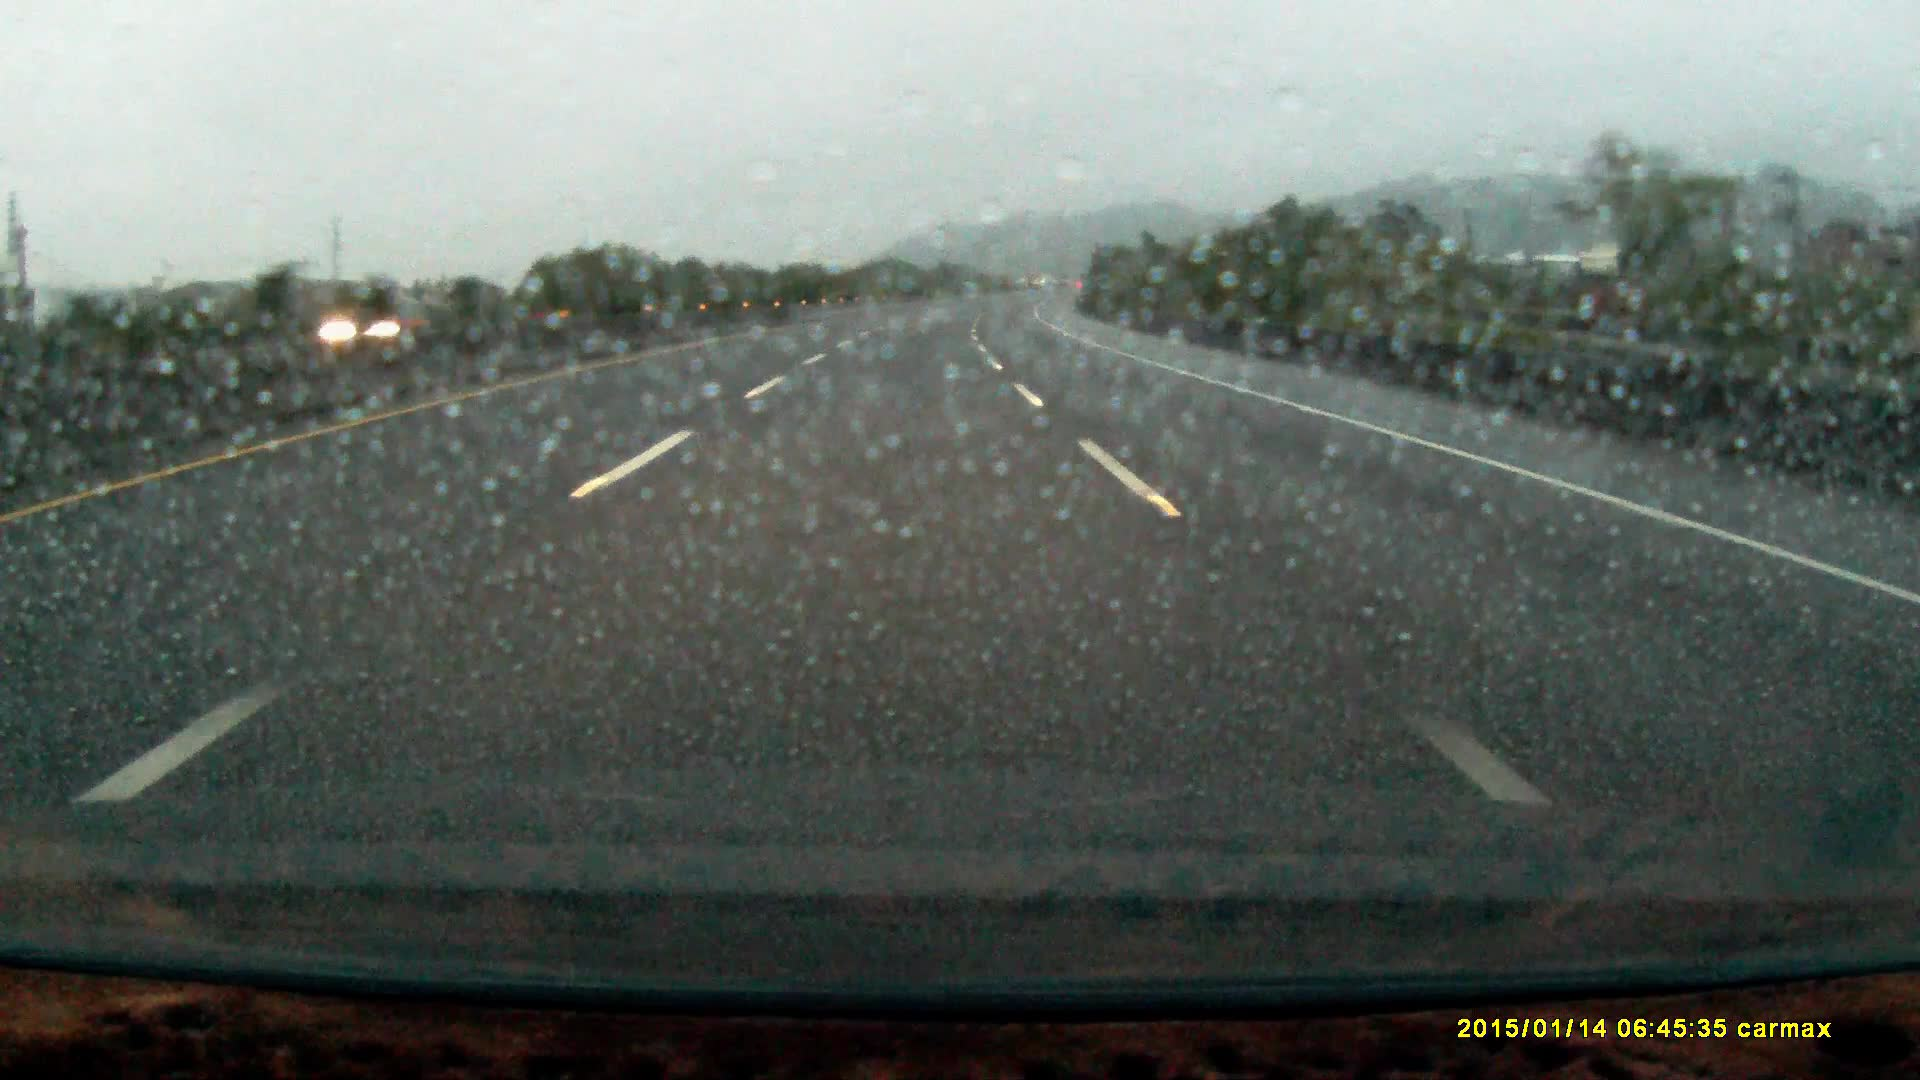vehicle: (315, 302, 433, 349)
